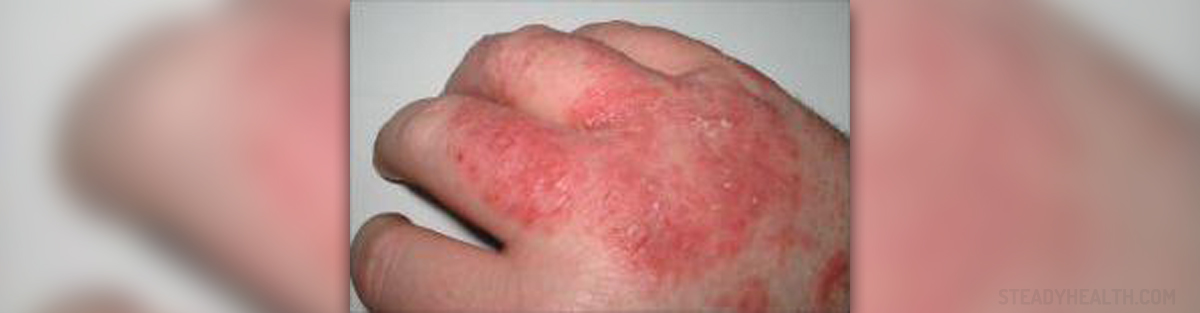Diseased: (458, 19, 783, 313)
